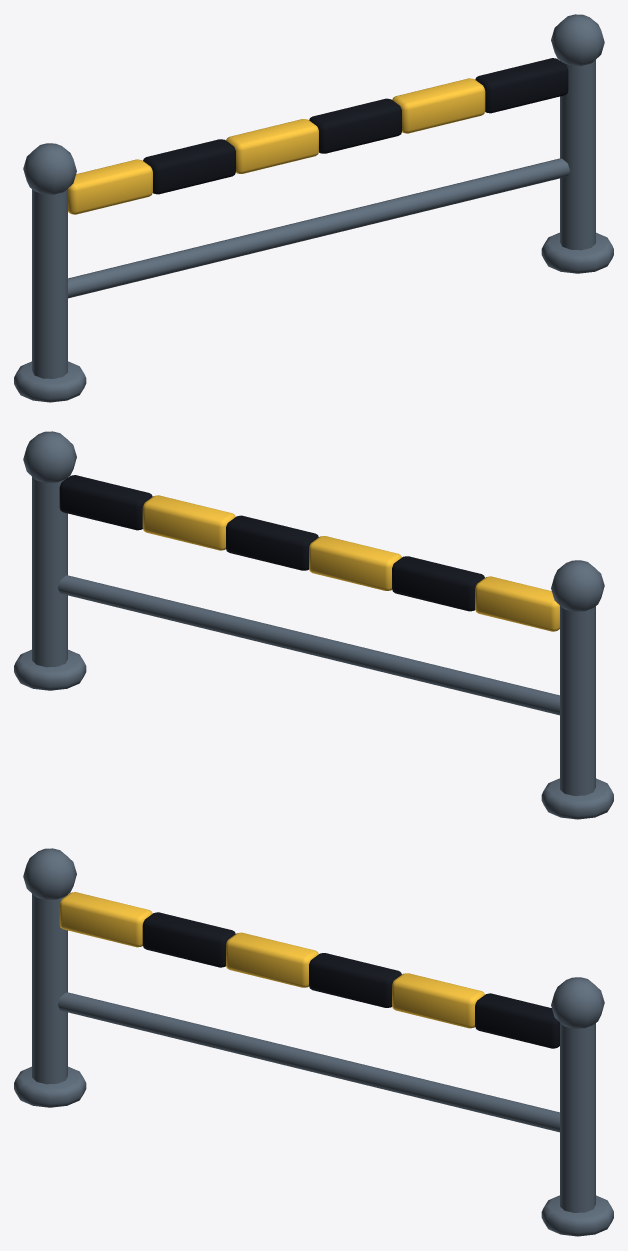
The model's file is Baranda.fbx.
The picture shows the model from 3 angles, top to bottom: view 1: azimuth 30°, elevation 25°; view 2: azimuth 150°, elevation 25°; view 3: azimuth 330°, elevation 25°; orthographic projection.
Parts seen in each view (by area): view 1: Baranda_Postes, Baranda_FranjaOscura, Baranda_FranjaClara; view 2: Baranda_Postes, Baranda_FranjaOscura, Baranda_FranjaClara; view 3: Baranda_Postes, Baranda_FranjaClara, Baranda_FranjaOscura.
Boxes of the visible parts, x1,y1,x2,y2 form: Baranda_Postes: (14, 14, 613, 402); Baranda_FranjaOscura: (143, 58, 568, 194); Baranda_FranjaClara: (68, 78, 485, 214); Baranda_Postes: (14, 431, 613, 819); Baranda_FranjaOscura: (59, 475, 484, 611); Baranda_FranjaClara: (142, 495, 559, 631); Baranda_Postes: (14, 848, 613, 1236); Baranda_FranjaClara: (59, 892, 484, 1028); Baranda_FranjaOscura: (142, 912, 559, 1048).
Bounding box in the file's own units: 6.04 × 2.39 × 0.64.
